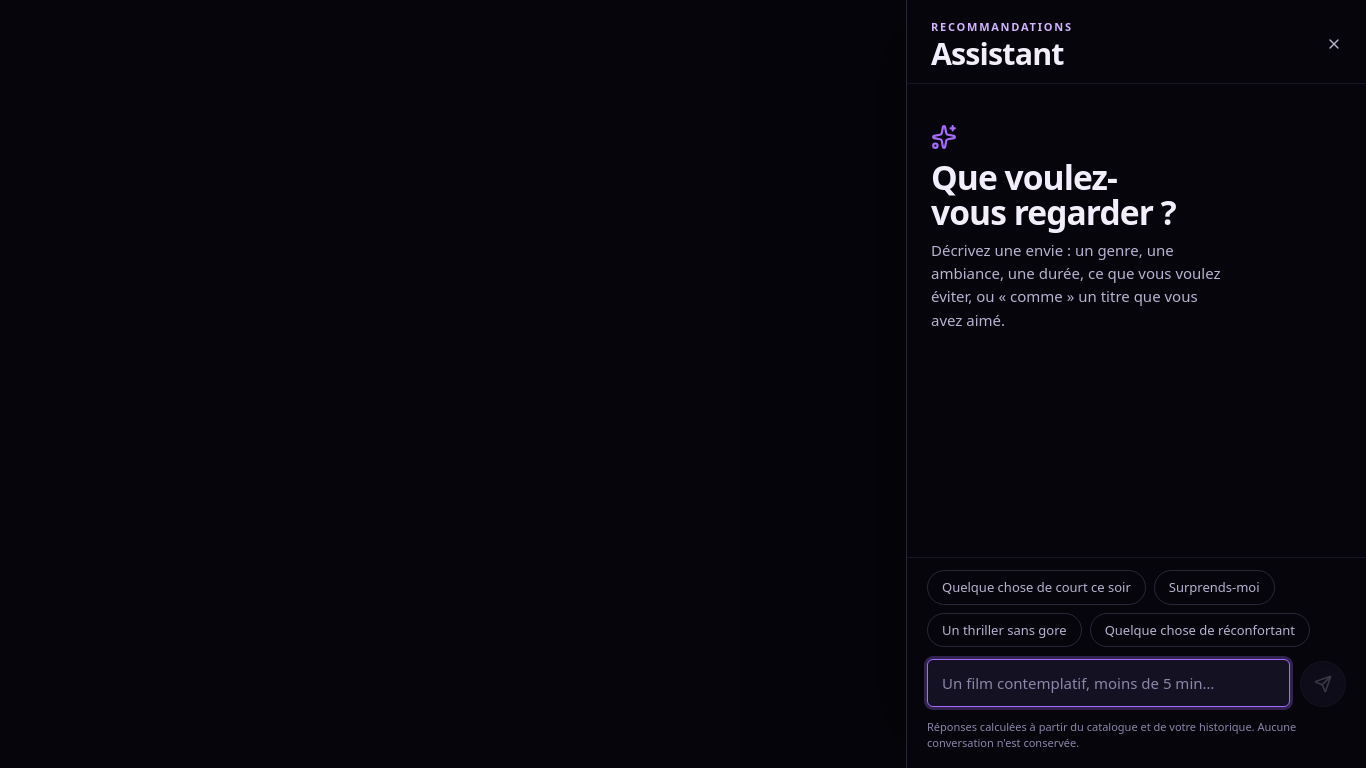
it: AssistantPanel › admet un titre inconnu au lieu de l'inventer
This screenshot has width=1366, height=768.
Type "comme Zorglub" into the text box named "Votre message à l'assistant" at (1108, 683), box [927, 659, 1290, 707]
Then press Enter
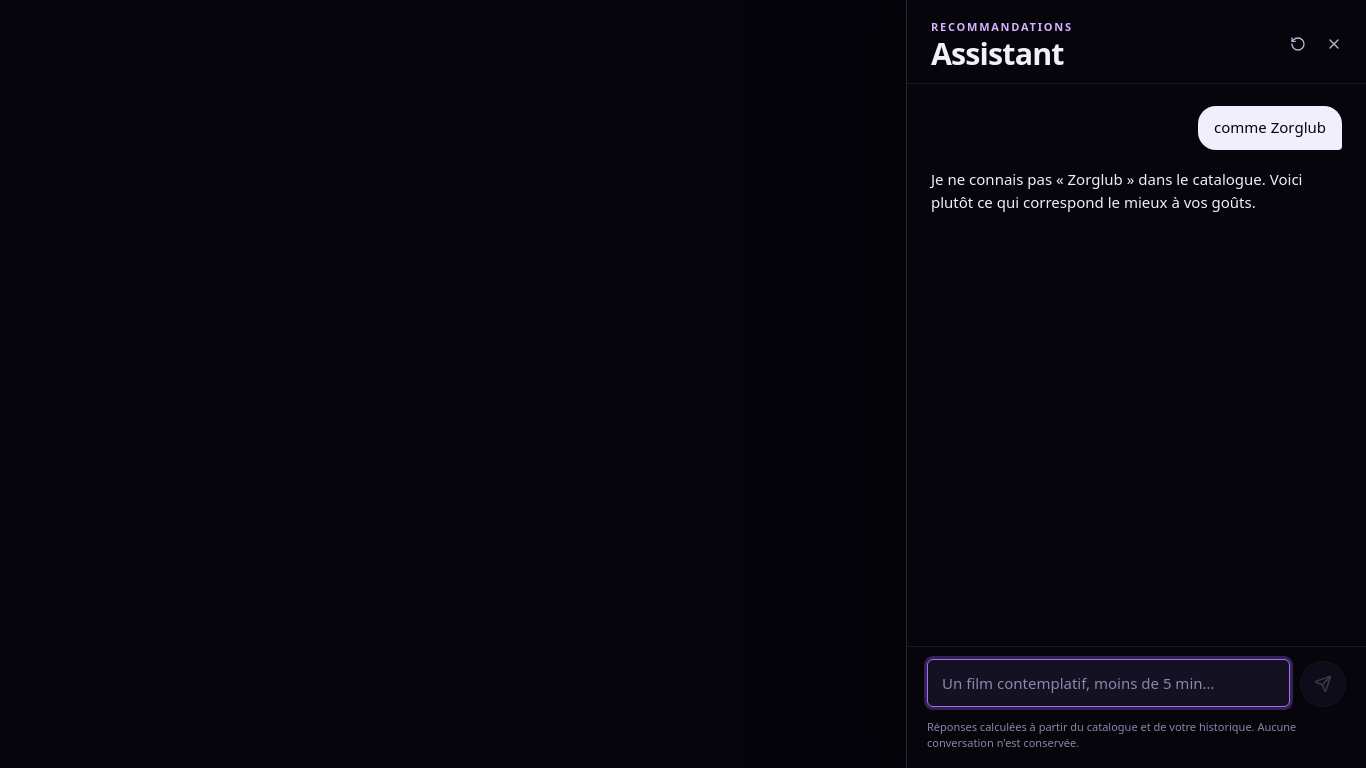
Expected: the text "comme Zorglub" is shown, [1198, 106, 1342, 150]
